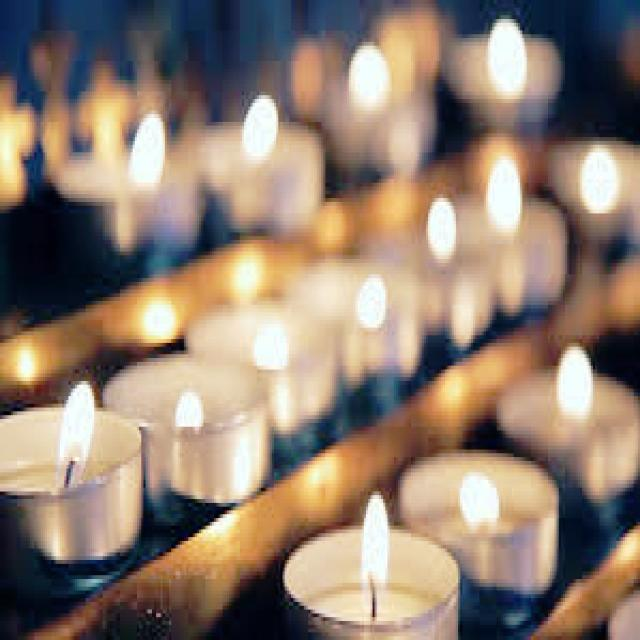api: (51, 370, 98, 485), (354, 485, 393, 591)
